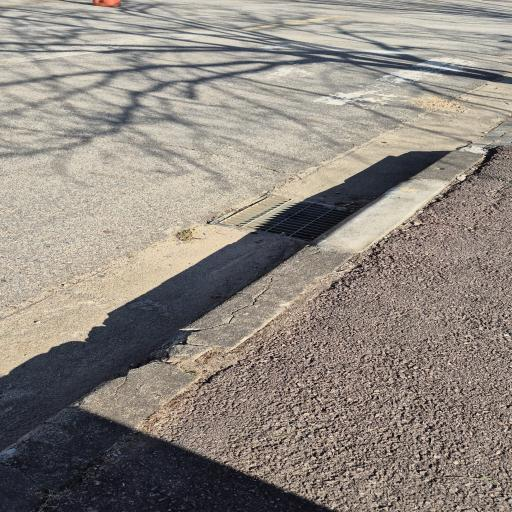drain: (211, 195, 350, 241)
